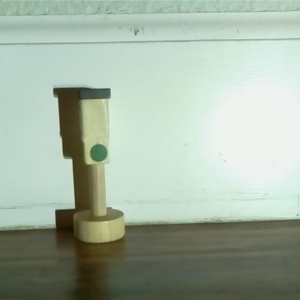traffic light green: (66, 85, 130, 244)
